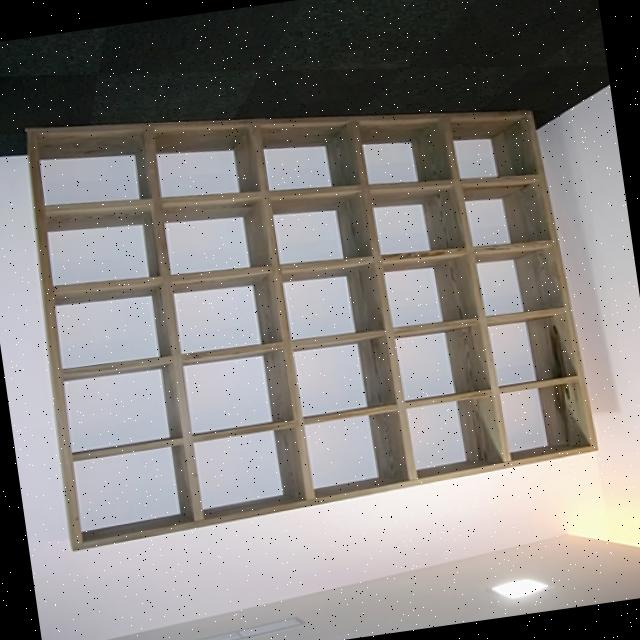Shelf: (4, 51, 609, 562)
